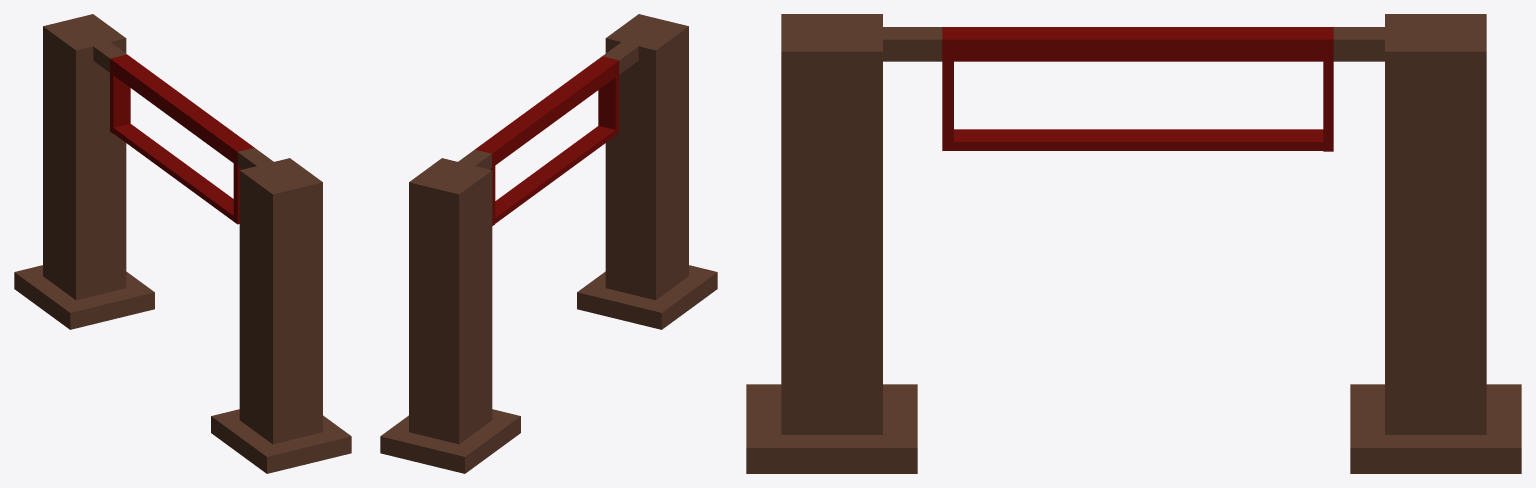
The model's file is posteplaca.fbx.
The picture shows the model from 3 angles, left to right: view 1: azimuth 30°, elevation 25°; view 2: azimuth 150°, elevation 25°; view 3: azimuth 270°, elevation 25°; orthographic projection. The views are drawn at different scales.
Parts seen in each view (by area): view 1: Cube.001; view 2: Cube.001; view 3: Cube.001.
Part boxes in pixels (<box>): Cube.001: <box>14,14,351,473</box>; Cube.001: <box>380,14,717,473</box>; Cube.001: <box>746,14,1521,473</box>.
Size of the model in its own units: 200 by 602 by 1033.
